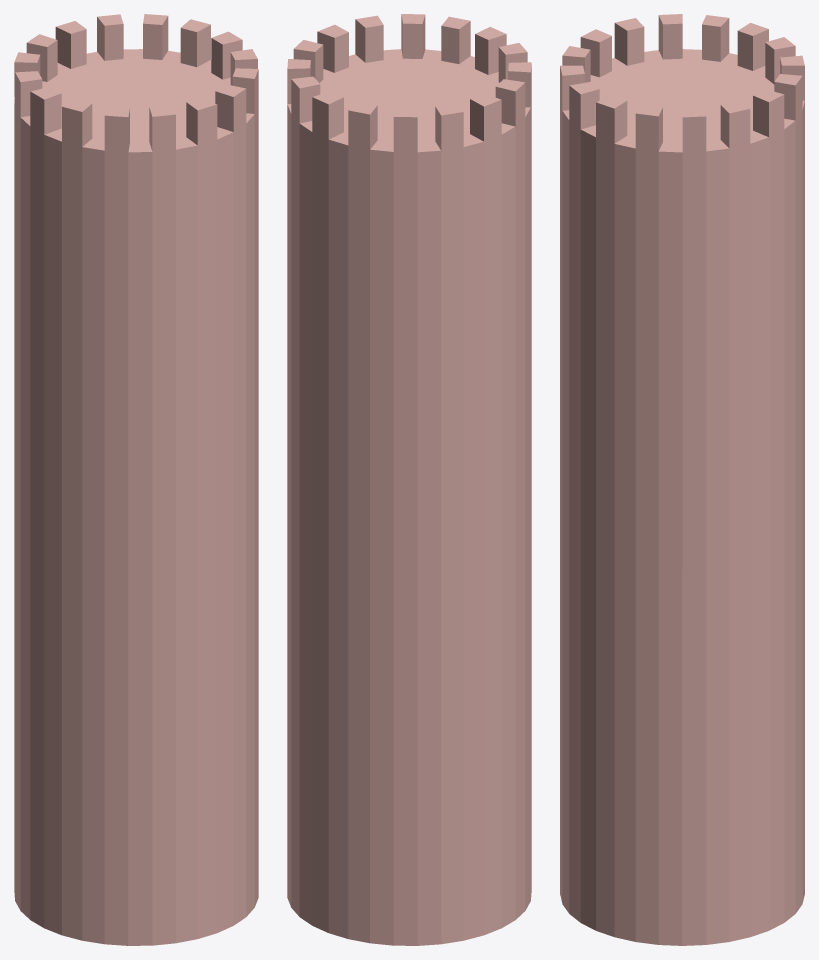
The model's file is Tower_Gridded.fbx.
3 renders of one model, left to right at view 1: azimuth 30°, elevation 25°; view 2: azimuth 150°, elevation 25°; view 3: azimuth 270°, elevation 25°, orthographic.
Visible parts, largest first — view 1: Gridded_Tower; view 2: Gridded_Tower; view 3: Gridded_Tower.
Part boxes in pixels (x1,y1,x2,y2): Gridded_Tower: (14, 14, 258, 945); Gridded_Tower: (287, 14, 531, 945); Gridded_Tower: (560, 14, 804, 945).
Bounding box in the file's own units: 1144 × 4274 × 1144.
